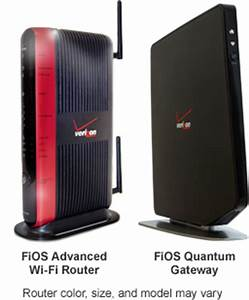Verizon Router: (9, 2, 142, 243)
